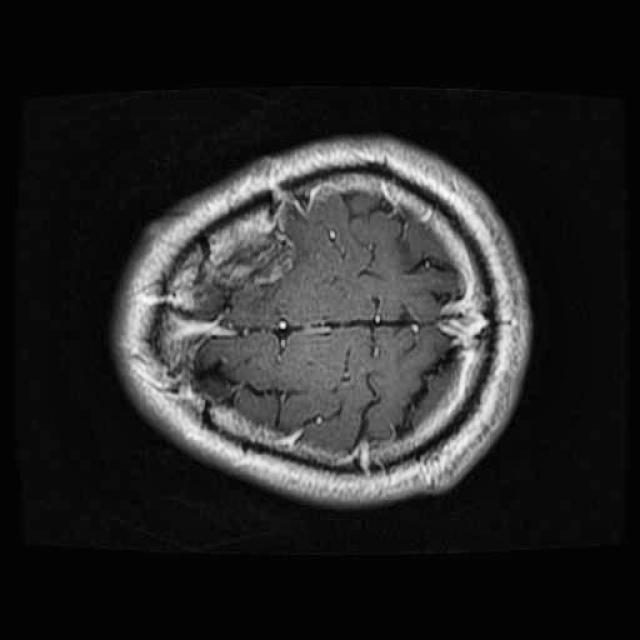Tumor: (204, 218, 304, 294)
